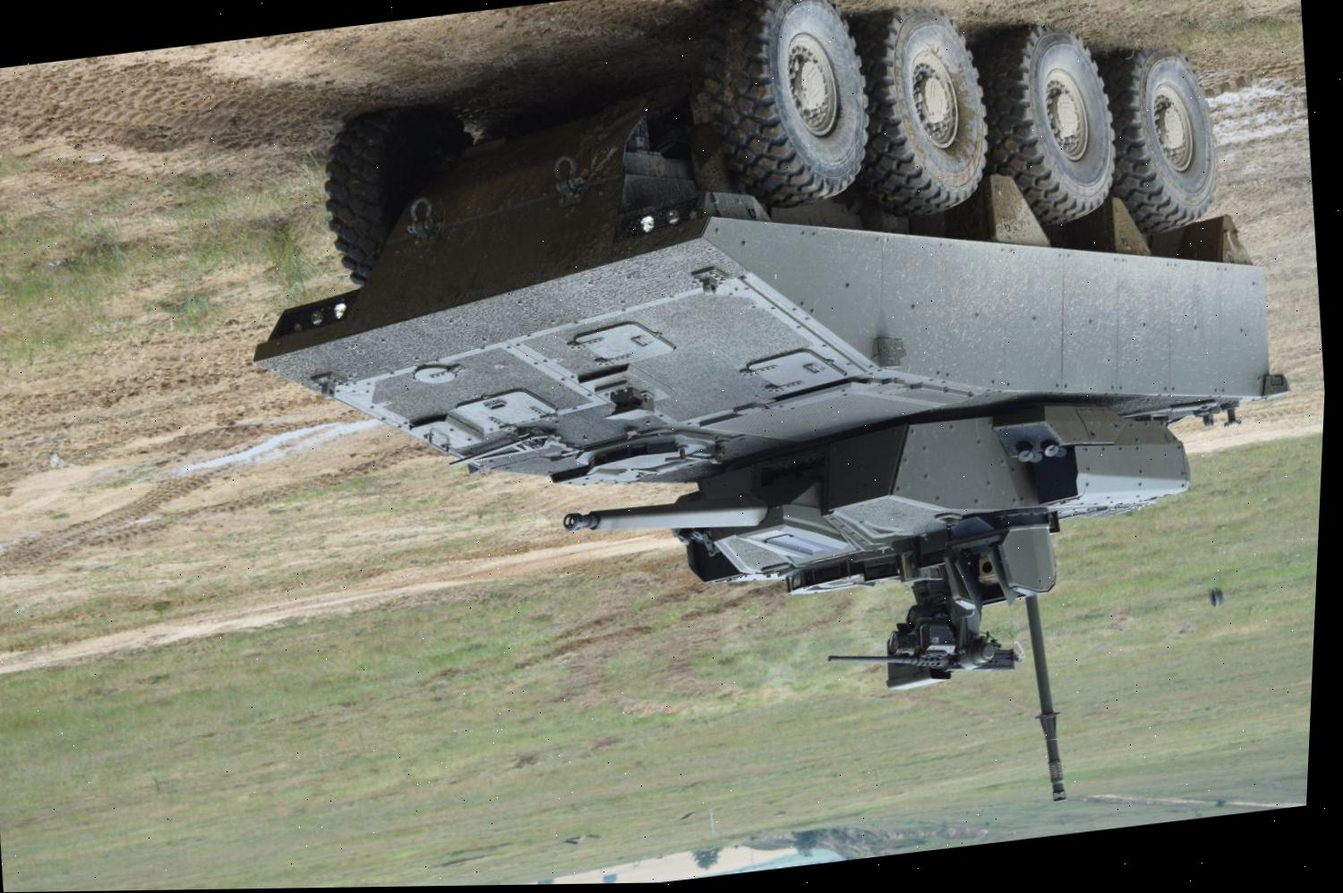tank: (195, 0, 1343, 890)
